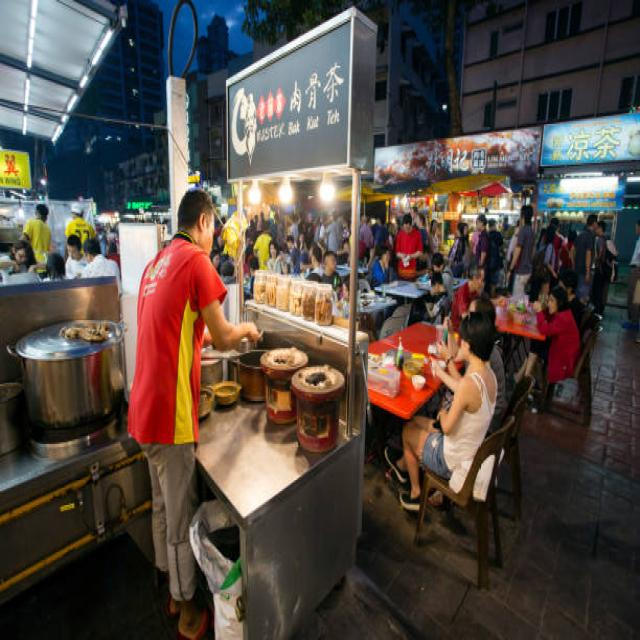Emperan: (129, 0, 387, 640)
